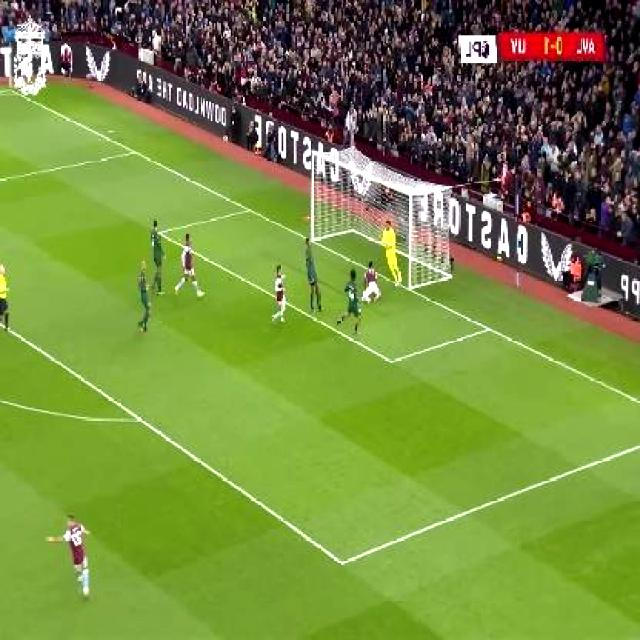bigarea_bottom_inner: (331, 544, 355, 578)
bigarea_top_outter: (126, 140, 143, 160)
bottom_arc_area_intersection: (130, 403, 152, 434)
corner: (0, 83, 20, 97)
smallarea_bottom_inner: (380, 343, 403, 375)
smallarea_bottom_outter: (478, 314, 500, 340)
smallarea_top_inner: (153, 220, 170, 242)
smallarea_top_outter: (242, 198, 258, 220)
